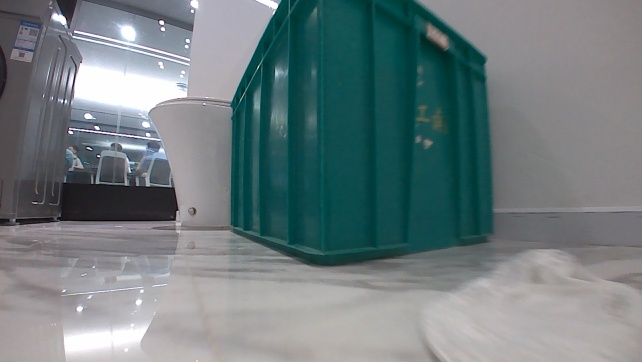toilet: (145, 95, 234, 228)
washing_machine1: (0, 0, 84, 226)
